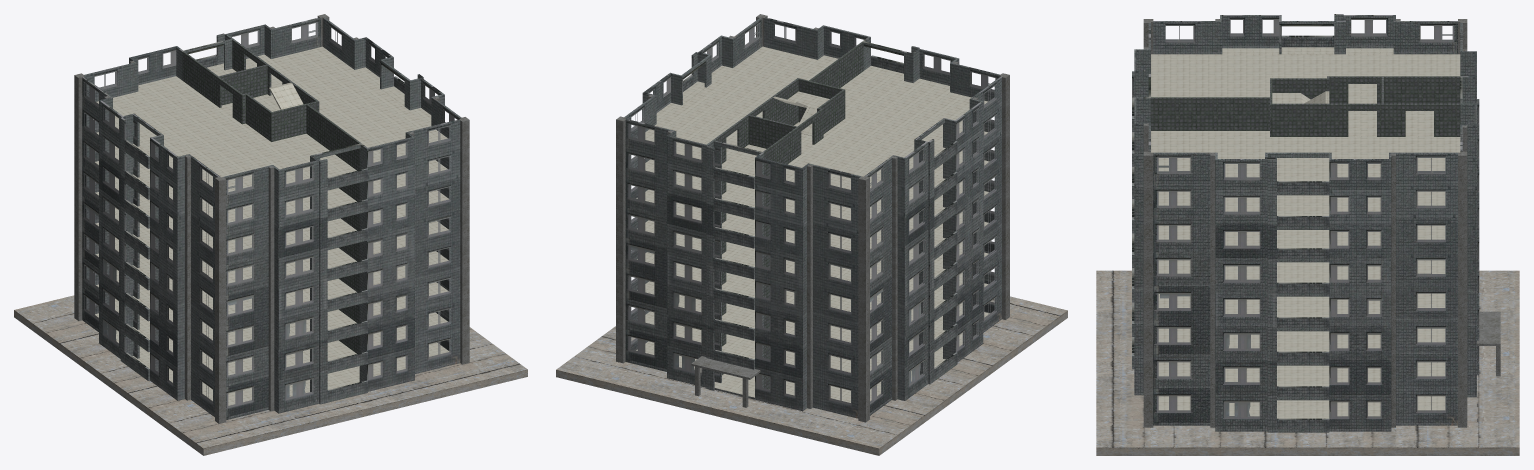
Rendered from BagSS07base_high.fbx.
3 views of the same model, side by side, from view 1: azimuth 30°, elevation 25°; view 2: azimuth 150°, elevation 25°; view 3: azimuth 270°, elevation 25° (orthographic). The views are drawn at different scales.
Visible parts, largest first — view 1: baseMain700, baseramps700, baseBase700, baseceilings700, baseInnerWalls700; view 2: baseMain700, baseramps700, baseBase700, baseceilings700, baseInnerWalls700; view 3: baseMain700, baseramps700, baseBase700, baseInnerWalls700, baseceilings700.
Boxes of the visible parts, x1=… form: baseMain700: x1=82, y1=17, x2=461, y2=419; baseramps700: x1=95, y1=46, x2=449, y2=405; baseBase700: x1=14, y1=295, x2=527, y2=455; baseceilings700: x1=74, y1=14, x2=469, y2=423; baseInnerWalls700: x1=182, y1=39, x2=360, y2=353; baseMain700: x1=624, y1=17, x2=1001, y2=418; baseramps700: x1=636, y1=46, x2=989, y2=402; baseBase700: x1=556, y1=296, x2=1067, y2=455; baseceilings700: x1=616, y1=14, x2=1009, y2=422; baseInnerWalls700: x1=713, y1=42, x2=863, y2=389; baseMain700: x1=1132, y1=14, x2=1479, y2=432; baseramps700: x1=1151, y1=47, x2=1460, y2=418; baseBase700: x1=1096, y1=270, x2=1519, y2=455; baseInnerWalls700: x1=1151, y1=76, x2=1460, y2=136; baseceilings700: x1=1143, y1=19, x2=1500, y2=427.
Size of the model in its own units: 42.24 by 31.16 by 42.72.
